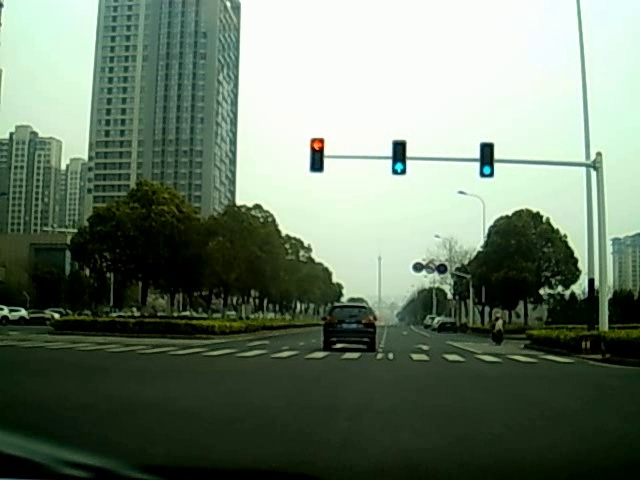Traffic_Light_go: (392, 140, 407, 176), (481, 142, 495, 177)
Traffic_Light_stop: (311, 138, 323, 173)
